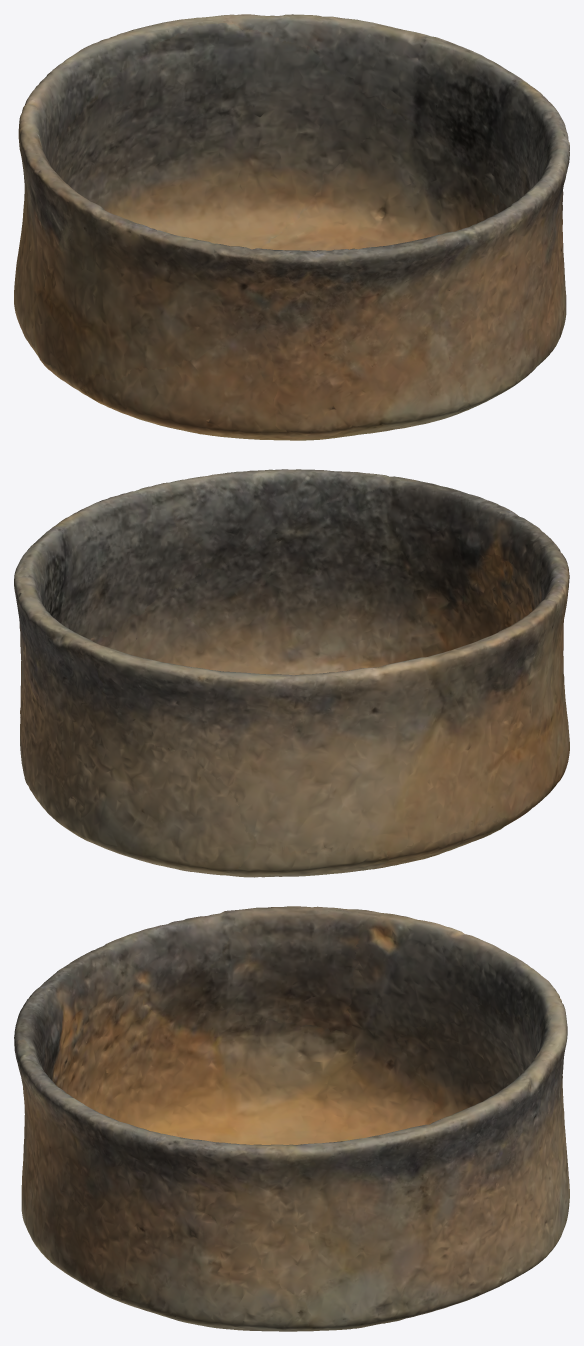
3 views of the same model, one above another, from view 1: azimuth 30°, elevation 25°; view 2: azimuth 150°, elevation 25°; view 3: azimuth 270°, elevation 25° (orthographic).
Parts seen in each view (by area): view 1: Mesh_0; view 2: Mesh_0; view 3: Mesh_0.
Part boxes in pixels (box(x1,y1,x2,y2)): Mesh_0: box(14, 14, 569, 440); Mesh_0: box(14, 469, 569, 877); Mesh_0: box(14, 906, 569, 1331).
Size of the model in its own units: 0.2125 by 0.1068 by 0.2148.
1 material, 1 textured.
